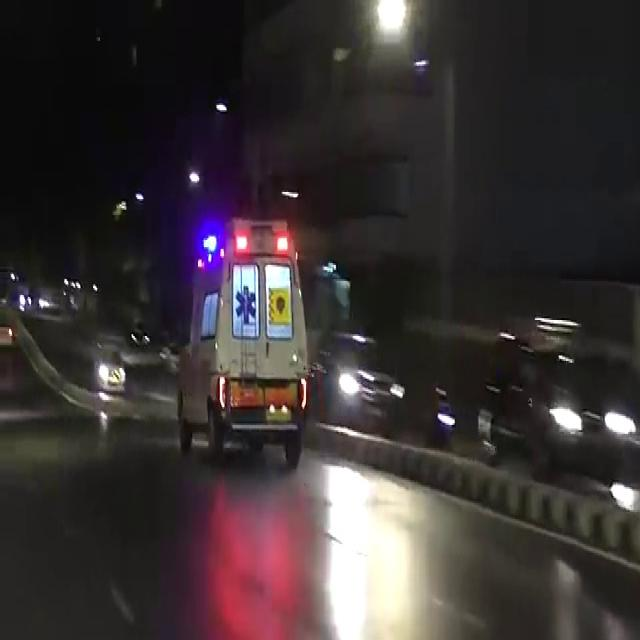ambulance: (173, 237, 337, 454)
